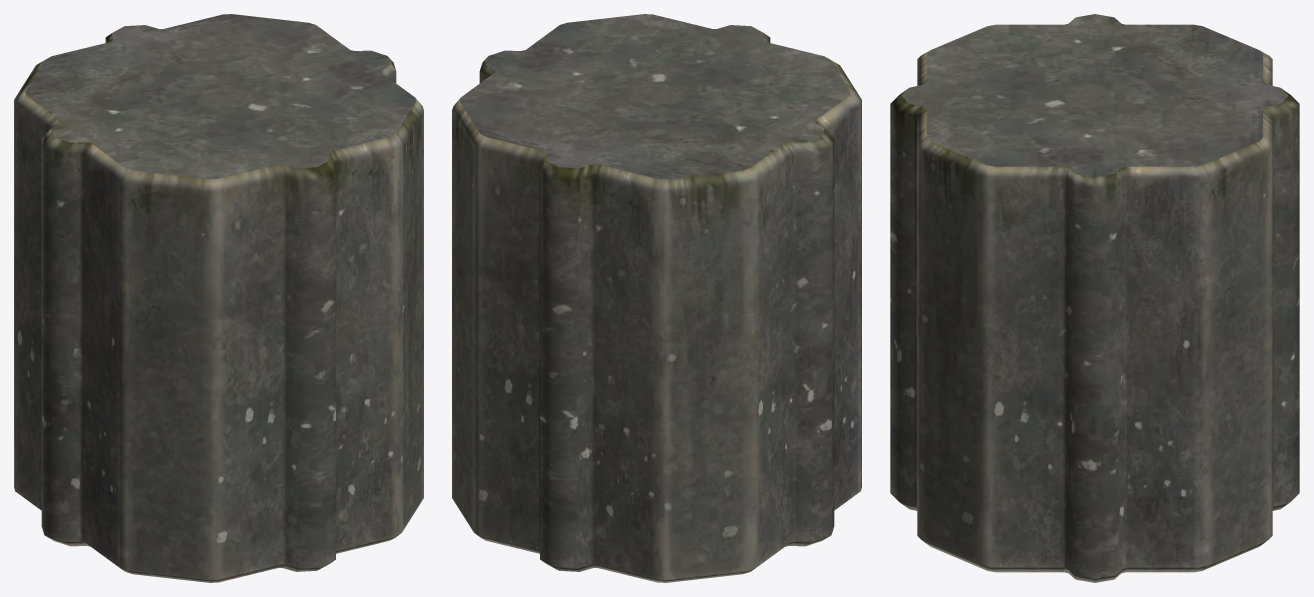
3 renders of one model, left to right at view 1: azimuth 30°, elevation 25°; view 2: azimuth 150°, elevation 25°; view 3: azimuth 270°, elevation 25°, orthographic.
Parts seen in each view (by area): view 1: SM_DeathTemple_Pillar_1x4_Block_02_v1_LOD0; view 2: SM_DeathTemple_Pillar_1x4_Block_02_v1_LOD0; view 3: SM_DeathTemple_Pillar_1x4_Block_02_v1_LOD0.
Boxes of the visible parts, x1,y1,x2,y2 form: SM_DeathTemple_Pillar_1x4_Block_02_v1_LOD0: [14, 14, 423, 582]; SM_DeathTemple_Pillar_1x4_Block_02_v1_LOD0: [452, 14, 861, 582]; SM_DeathTemple_Pillar_1x4_Block_02_v1_LOD0: [890, 14, 1299, 582].
Size of the model in its own units: 1.36 by 1.5 by 1.37.
Materials: 1 (1 with a texture image).
